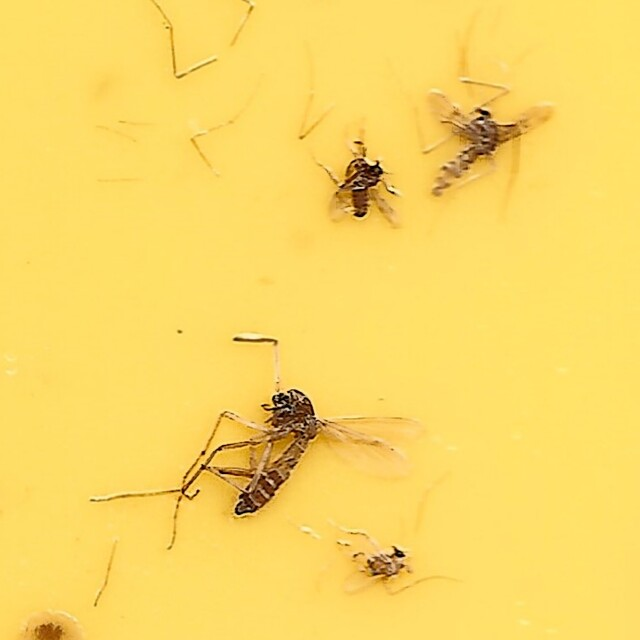Nematocera: (88, 388, 430, 549), (425, 91, 552, 198), (324, 154, 402, 230)
